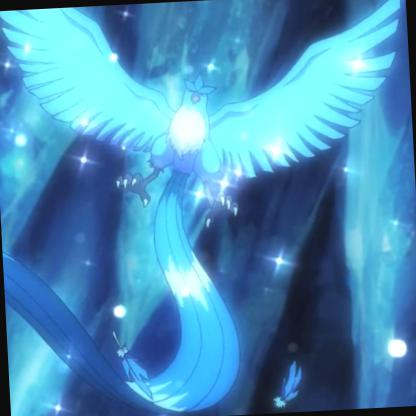Arktos: (0, 8, 400, 415)
